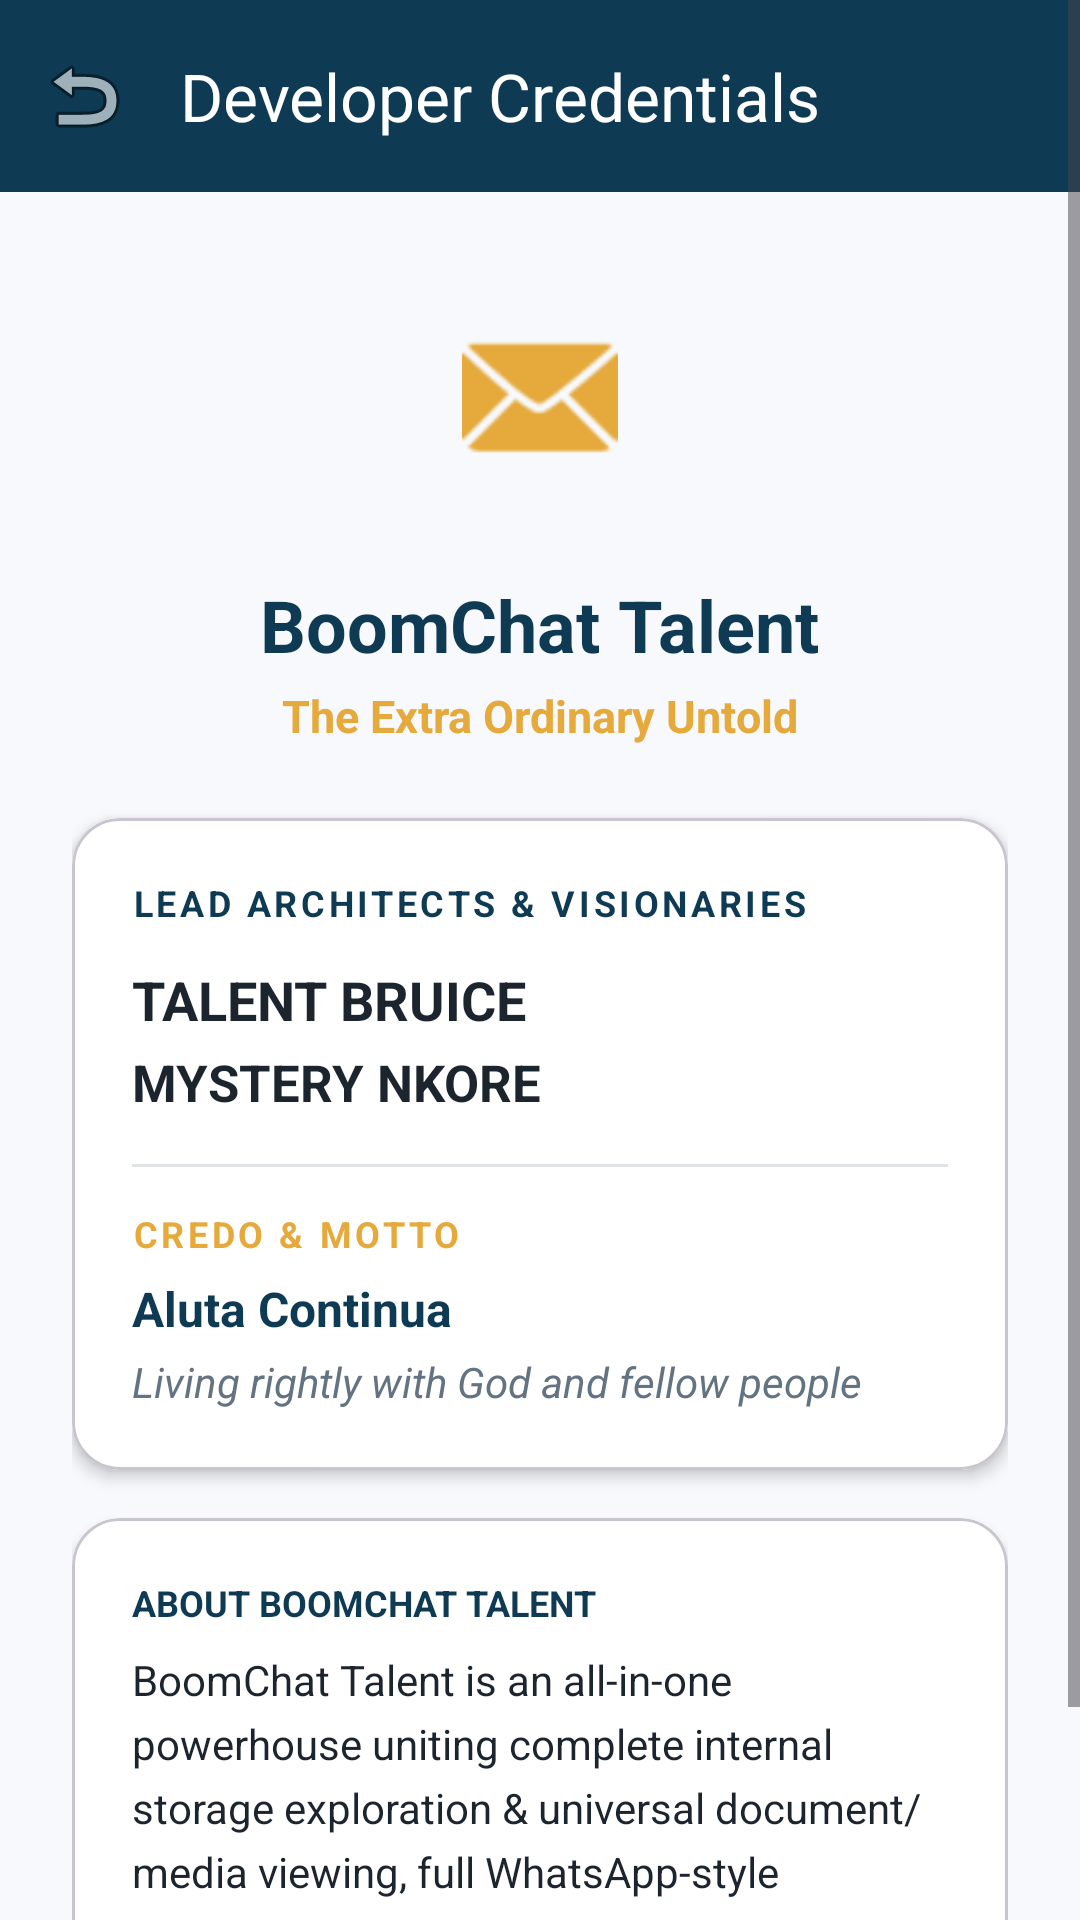

Screen size 1080px x 1920px. Icon name, then its center in pixels as [x,y]:
email: [540,397]
